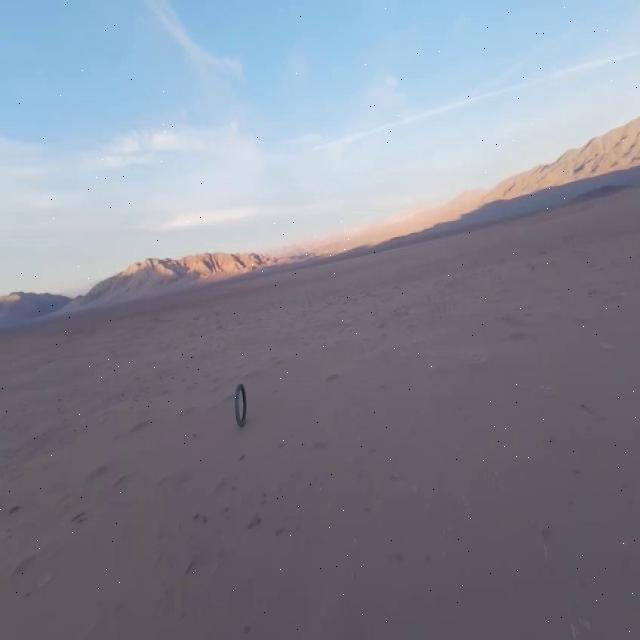Tire: (235, 383, 246, 427)
